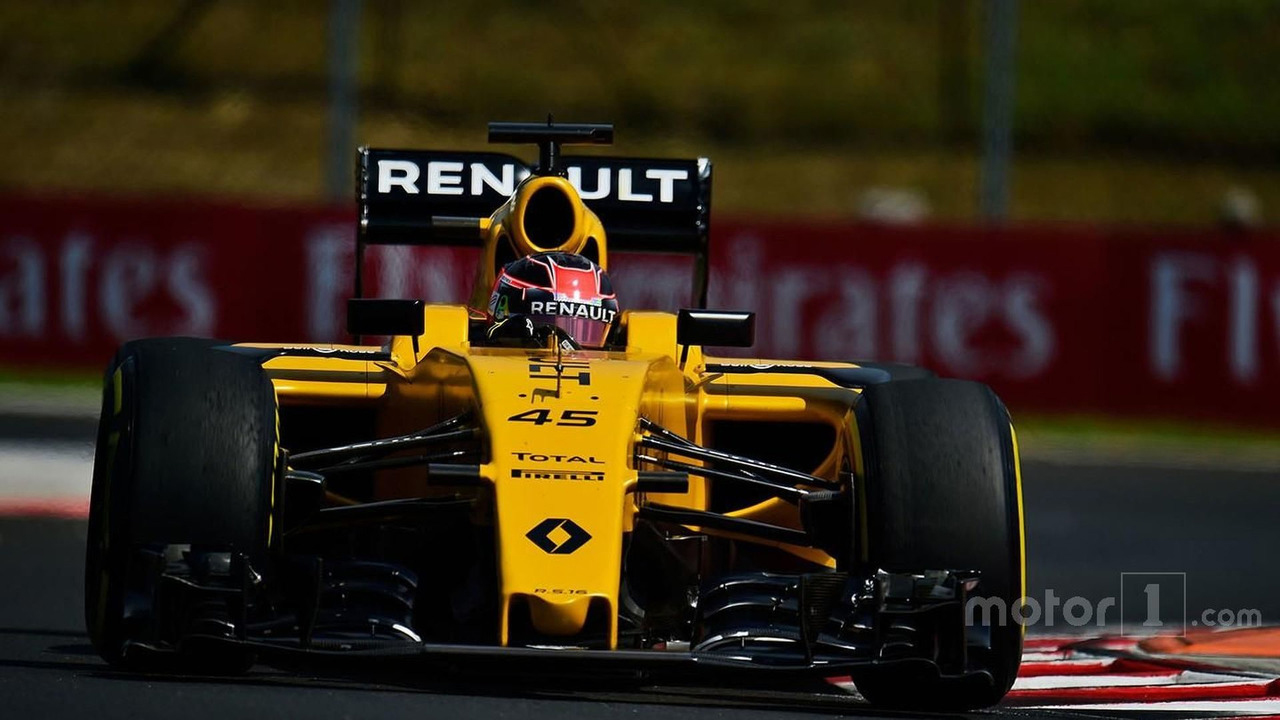F1 Car: (77, 107, 1035, 712)
